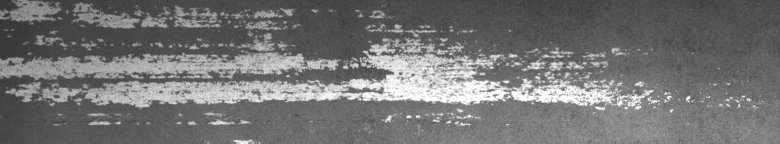kb: (4, 4, 763, 126)
